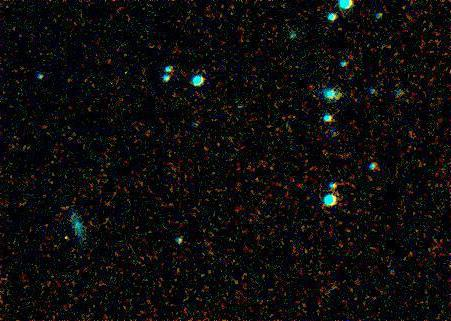star: (52, 222, 82, 252)
